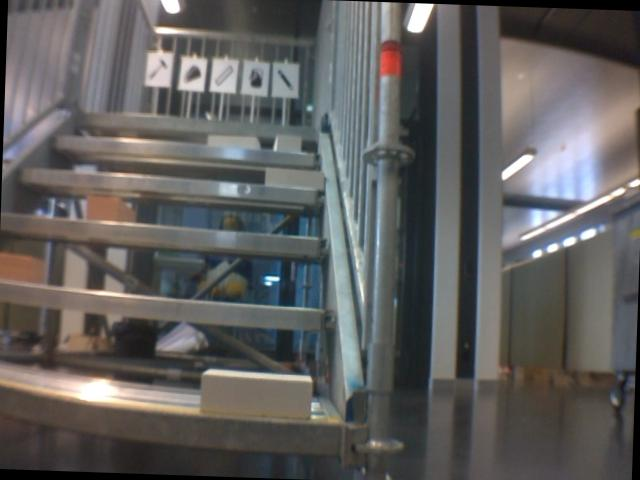brick: (200, 368, 311, 418), (86, 195, 135, 222), (263, 168, 323, 188), (208, 135, 260, 149), (273, 135, 300, 152)
bucket: (243, 65, 265, 90)
edge: (0, 212, 329, 256), (19, 167, 327, 204), (51, 135, 321, 165), (78, 111, 315, 139)
hammer: (147, 55, 169, 82)
pencil: (276, 66, 295, 92)
ruler: (213, 62, 236, 89)
taco: (182, 61, 202, 85)
